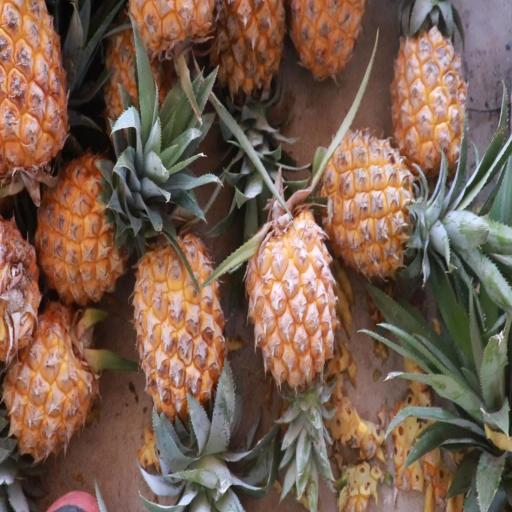Pineapple - v8 v1: (243, 196, 343, 400), (134, 228, 232, 430), (312, 118, 424, 284), (0, 295, 101, 464), (34, 150, 128, 314), (389, 2, 468, 180)
